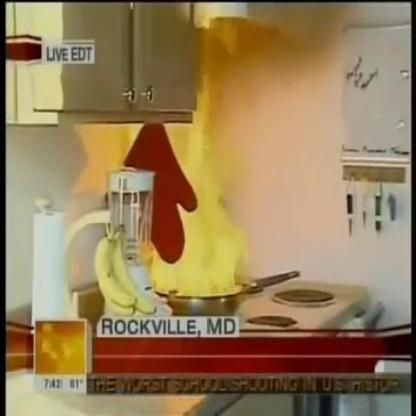fire: (140, 79, 255, 294)
